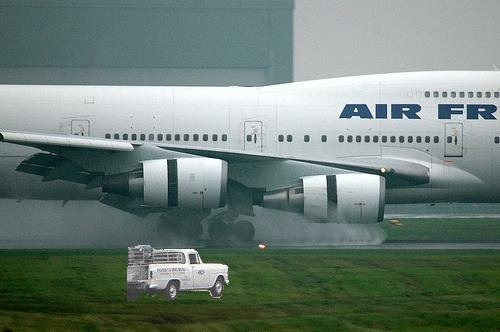tampered: (128, 246, 229, 301)
